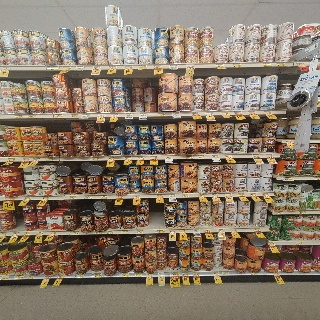All PRICE TAGS: (4, 270, 17, 274), (119, 272, 129, 277), (155, 229, 165, 234), (0, 275, 9, 280), (282, 177, 293, 181), (48, 66, 59, 70), (170, 272, 180, 276), (13, 275, 23, 279), (276, 62, 286, 66), (92, 273, 101, 277), (262, 192, 271, 196), (264, 110, 273, 114), (108, 65, 117, 69), (232, 63, 241, 67), (172, 112, 181, 116), (181, 272, 189, 276), (84, 195, 92, 199), (265, 153, 273, 157), (165, 155, 173, 159), (125, 156, 133, 160), (107, 156, 115, 160), (91, 156, 99, 160), (295, 241, 303, 245), (46, 157, 54, 161), (22, 157, 30, 161), (14, 115, 22, 119), (296, 62, 304, 66), (169, 64, 177, 68), (154, 64, 162, 68), (2, 66, 10, 70), (186, 64, 194, 68), (263, 62, 271, 66), (111, 113, 119, 117), (125, 113, 133, 117), (4, 197, 14, 200), (222, 271, 229, 275), (213, 271, 220, 275), (192, 272, 199, 276), (169, 229, 176, 233), (137, 229, 144, 233), (198, 193, 205, 197), (169, 194, 176, 198), (156, 194, 163, 198), (225, 154, 232, 158), (285, 139, 292, 143), (313, 176, 320, 180), (268, 241, 275, 245), (33, 157, 40, 161), (36, 231, 43, 235), (42, 196, 49, 200), (28, 114, 35, 118), (158, 112, 165, 116), (71, 113, 78, 117), (82, 113, 89, 117), (98, 113, 105, 117), (221, 111, 228, 115), (69, 196, 78, 199), (298, 211, 307, 214), (62, 66, 71, 69), (124, 65, 133, 68), (54, 114, 63, 117), (76, 274, 84, 277), (193, 229, 201, 232), (72, 231, 80, 234), (250, 193, 258, 196), (237, 193, 245, 196), (182, 194, 190, 197), (252, 154, 260, 157), (196, 155, 204, 158), (185, 155, 193, 158), (150, 156, 158, 159), (137, 156, 145, 159), (248, 111, 256, 114), (234, 111, 242, 114), (24, 196, 30, 200), (76, 66, 84, 69), (93, 66, 101, 69), (139, 65, 147, 68), (216, 64, 224, 67), (206, 112, 214, 115), (4, 263, 15, 265), (140, 113, 147, 116), (253, 228, 260, 231), (231, 228, 238, 231), (218, 228, 225, 231), (180, 229, 187, 232), (121, 230, 128, 233), (107, 230, 114, 233), (97, 231, 104, 234), (225, 193, 232, 196), (211, 193, 218, 196), (134, 195, 141, 198), (117, 195, 124, 198), (101, 195, 108, 198), (212, 155, 219, 158), (276, 211, 283, 214), (24, 232, 31, 235), (8, 158, 15, 161), (49, 232, 56, 235), (27, 275, 34, 278), (146, 274, 153, 277), (192, 112, 199, 115), (13, 232, 19, 235), (1, 232, 7, 235), (135, 273, 141, 276), (158, 273, 164, 276), (205, 229, 211, 232), (58, 275, 63, 278), (58, 275, 62, 278), (43, 277, 50, 278), (273, 273, 279, 274)
